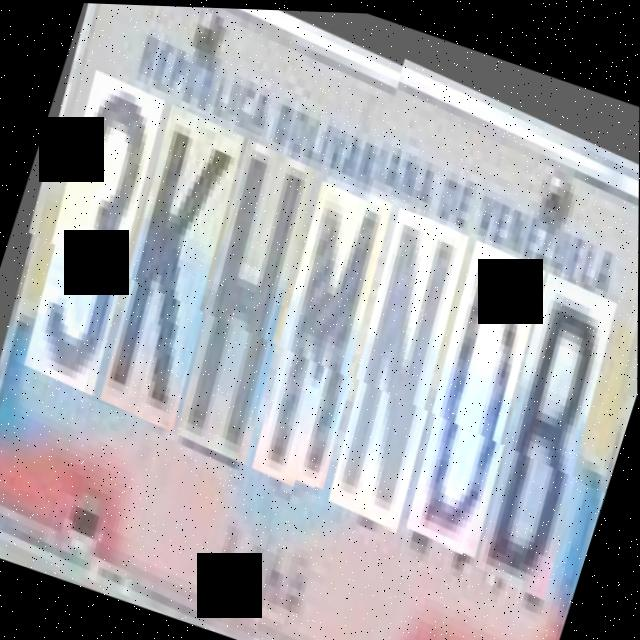3: (6, 67, 181, 394)
B: (459, 266, 634, 593)
D: (388, 235, 561, 554)
H: (159, 131, 334, 458)
K: (82, 99, 261, 428)
M: (236, 171, 409, 490)
N: (309, 203, 484, 530)
